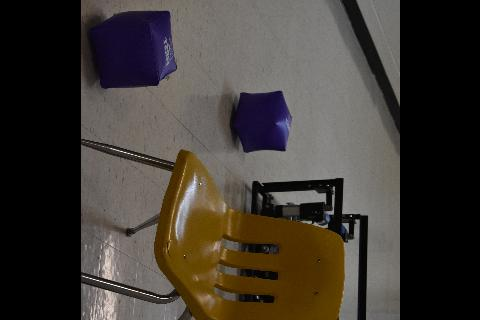cube: (87, 9, 178, 89), (230, 90, 292, 154)
